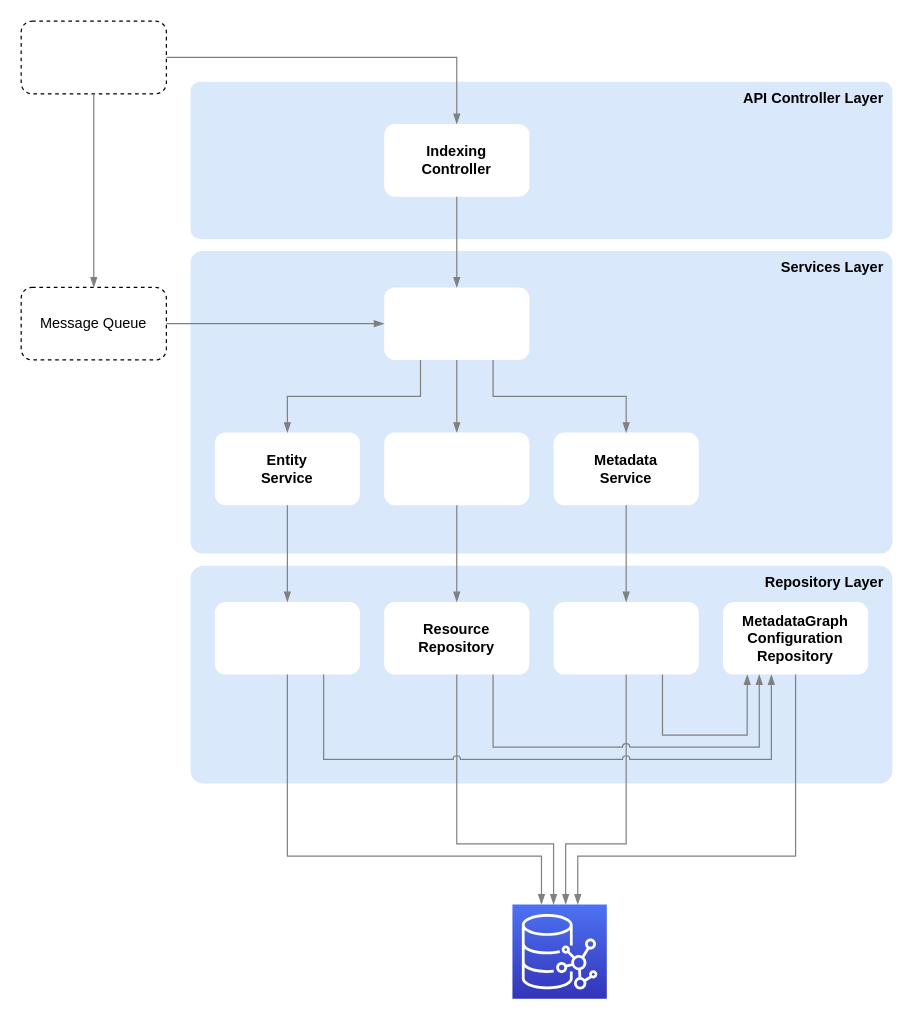
Some shapes in this 914 by 1020 pixel diagram are drawn without their labels. The shapes that lost their labels are listed below. From the top down, each one's centre as x and y in pixels, then its label:
(x=93, y=57): Registration Service
(x=456, y=323): Indexing Service
(x=456, y=468): Resource Service
(x=286, y=637): Entity Repository
(x=625, y=637): Metadata Repository
